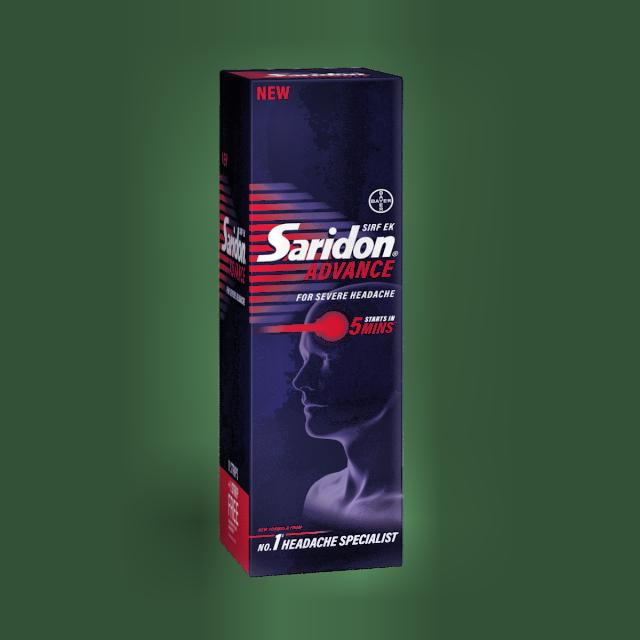Saridon: (252, 195, 402, 371)
